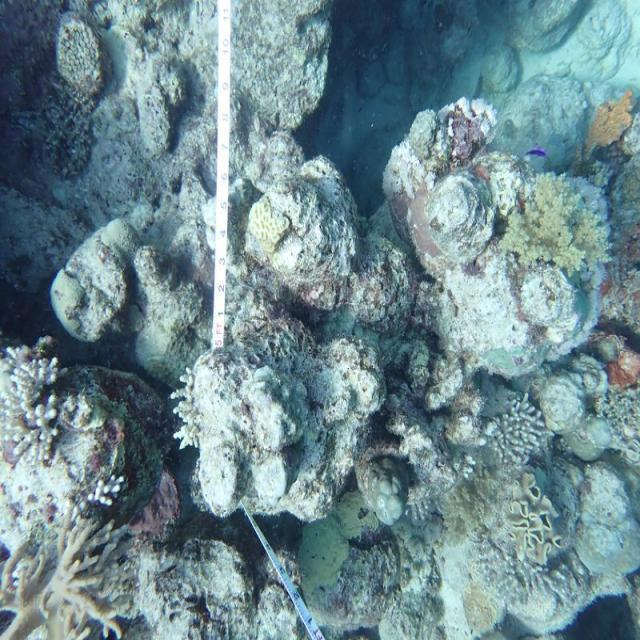Bleached Coral: (0, 333, 72, 431), (166, 368, 207, 465), (72, 463, 134, 512)
